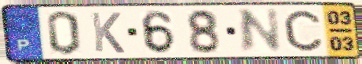0: (45, 9, 84, 57)
6: (139, 9, 176, 56)
8: (187, 8, 222, 55)
C: (281, 9, 324, 53)
K: (89, 11, 127, 55)
N: (238, 7, 285, 56)
